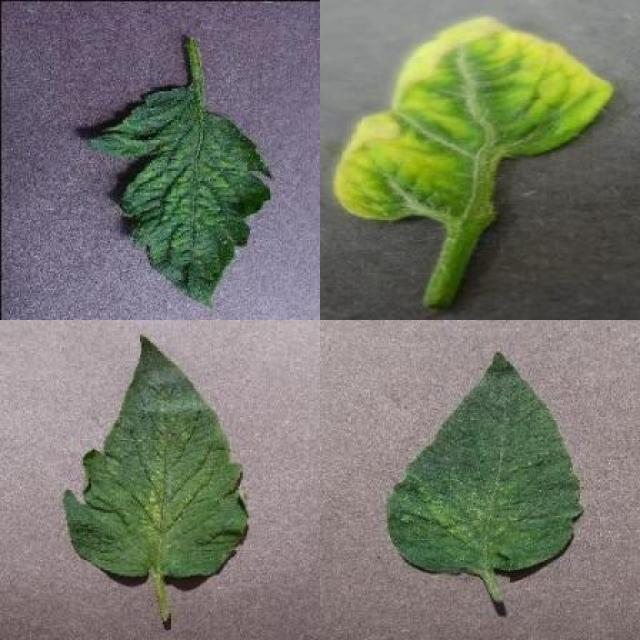Mosaic Virus: (84, 84, 274, 310)
Spider Mites: (64, 335, 250, 578), (386, 349, 584, 574)
Yellow Leaf Curl Virus: (332, 16, 614, 226)
